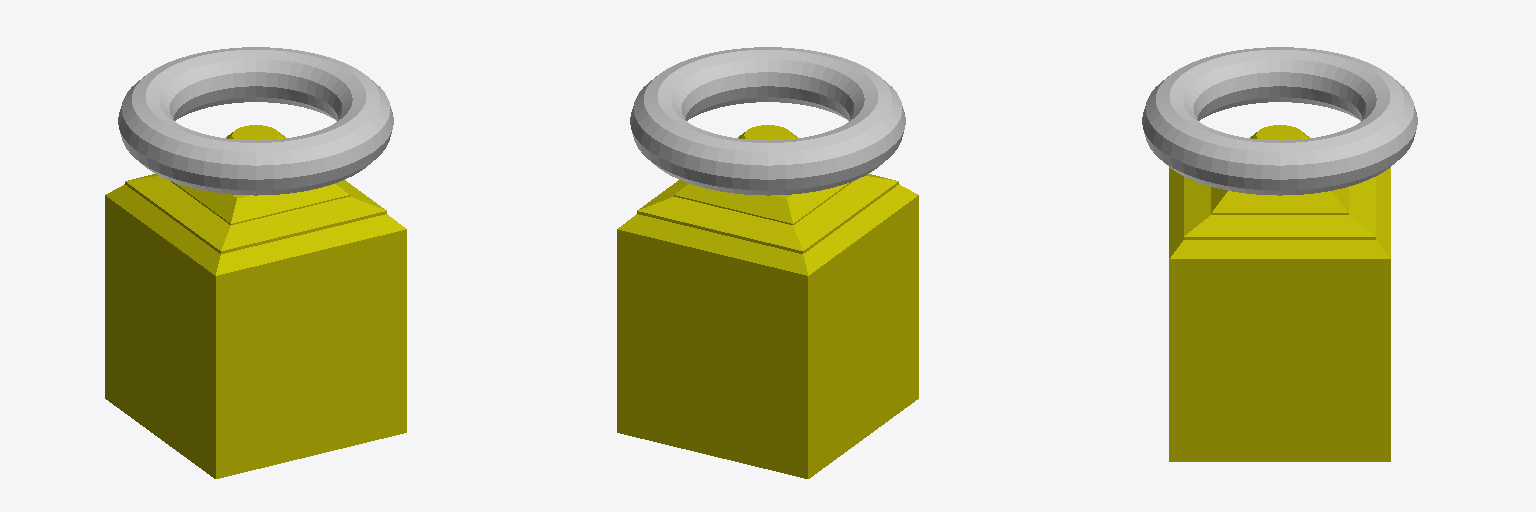
File: tower.obj
3 views of the same model, side by side, from view 1: azimuth 30°, elevation 25°; view 2: azimuth 150°, elevation 25°; view 3: azimuth 270°, elevation 25° (orthographic).
Visible parts, largest first — view 1: Cube; view 2: Cube; view 3: Cube.
Part boxes in pixels (x1,y1,x2,y2): Cube: (105, 47, 406, 478); Cube: (617, 47, 918, 478); Cube: (1142, 47, 1417, 461).
Size of the model in its own units: 2.5 by 3.19 by 2.5.